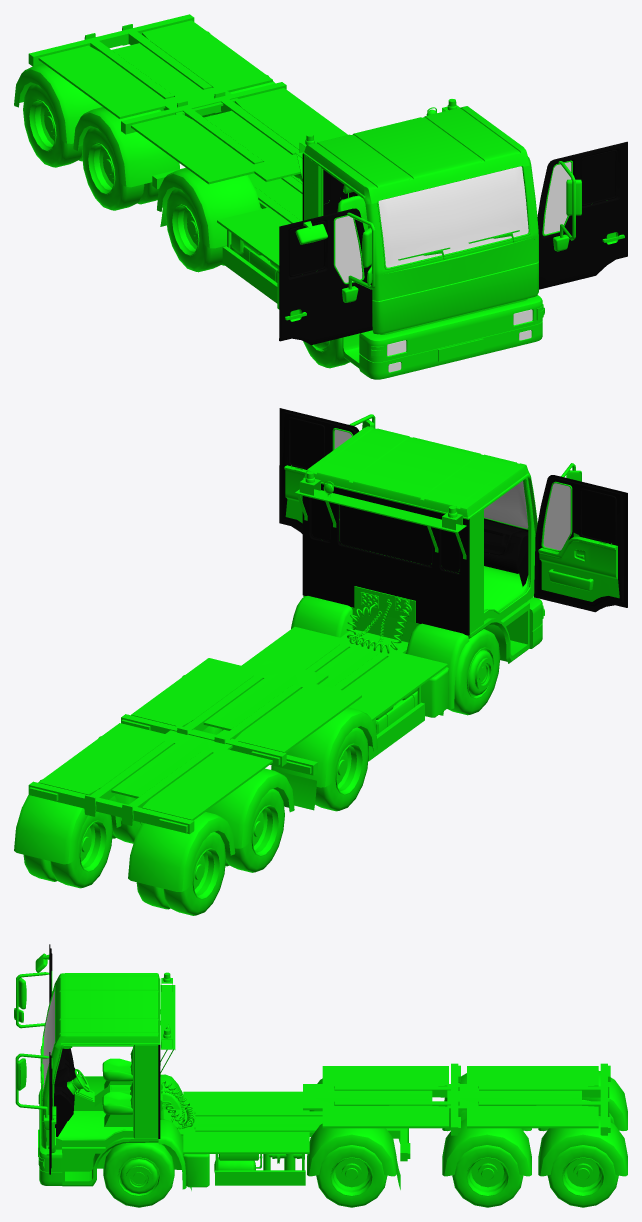
Rendered from SM_Truck_02.fbx.
The picture shows the model from 3 angles, top to bottom: view 1: azimuth 30°, elevation 25°; view 2: azimuth 150°, elevation 25°; view 3: azimuth 270°, elevation 25°; orthographic projection. The views are drawn at different scales.
Parts seen in each view (by area): view 1: SM_Truck_LOD0, SM_Door_R_LOD0, SM_Door_L_LOD0, SM_Wheel_Front_R_LOD0; view 2: SM_Truck_LOD0, SM_Door_R_LOD0, SM_Door_L_LOD0, SM_Wheel_Front_R_LOD0; view 3: SM_Truck_LOD0, SM_Wheel_Front_L_LOD0, SM_Door_L_LOD0, SM_Door_R_LOD0.
Boxes of the visible parts, x1,y1,x2,y2 form: SM_Truck_LOD0: (14, 14, 544, 379); SM_Door_R_LOD0: (279, 208, 375, 345); SM_Door_L_LOD0: (537, 141, 627, 289); SM_Wheel_Front_R_LOD0: (303, 337, 349, 368); SM_Truck_LOD0: (14, 426, 544, 915); SM_Door_R_LOD0: (534, 463, 627, 612); SM_Door_L_LOD0: (279, 408, 375, 541); SM_Wheel_Front_R_LOD0: (447, 629, 500, 715); SM_Truck_LOD0: (38, 972, 627, 1207); SM_Wheel_Front_L_LOD0: (103, 1142, 174, 1207); SM_Door_L_LOD0: (15, 1052, 56, 1174); SM_Door_R_LOD0: (14, 944, 52, 1032).
Size of what is drawn, in the model's own units: 508 by 301 by 957.
